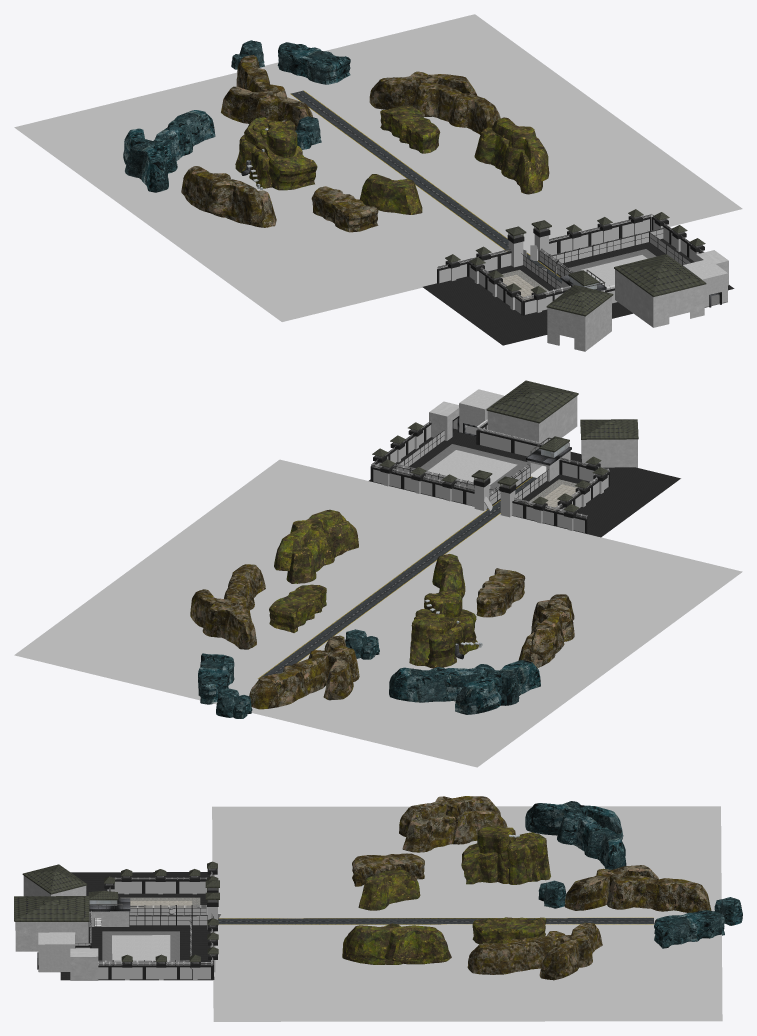
The model's file is Room_19+20.fbx.
The picture shows the model from 3 angles, top to bottom: view 1: azimuth 30°, elevation 25°; view 2: azimuth 150°, elevation 25°; view 3: azimuth 270°, elevation 25°; orthographic projection. The views are drawn at different scales.
Parts seen in each view (by area): view 1: nen, pPlane12, mountain5, mountain3, mountain9, mountain4, mountain7, mountain10, polySurface818, polySurface819, polySurface820, mountain11 (+19 smaller); view 2: nen, mountain9, pPlane12, mountain10, mountain3, mountain4, mountain5, mountain7, polySurface802, polySurface819, polySurface818, mountain1 (+17 smaller); view 3: nen, mountain10, mountain5, mountain3, mountain7, mountain9, mountain4, pPlane12, polySurface802, mountain11, polySurface819, mountain2 (+22 smaller).
Part boxes in pixels (left/top/right/bottom): nen: left=14, top=14, right=742, bottom=321; pPlane12: left=422, top=239, right=734, bottom=345; mountain5: left=369, top=71, right=500, bottom=134; mountain3: left=235, top=117, right=317, bottom=190; mountain9: left=123, top=110, right=215, bottom=192; mountain4: left=474, top=117, right=549, bottom=194; mountain7: left=181, top=166, right=276, bottom=227; mountain10: left=221, top=55, right=312, bottom=130; polySurface818: left=615, top=269, right=704, bottom=327; polySurface819: left=614, top=254, right=706, bottom=296; polySurface820: left=547, top=296, right=611, bottom=351; mountain11: left=277, top=42, right=350, bottom=84; nen: left=14, top=459, right=742, bottom=767; mountain9: left=389, top=660, right=540, bottom=714; pPlane12: left=369, top=428, right=680, bottom=537; mountain10: left=249, top=635, right=359, bottom=709; mountain3: left=409, top=590, right=478, bottom=668; mountain4: left=274, top=509, right=358, bottom=583; mountain5: left=190, top=564, right=265, bottom=649; mountain7: left=518, top=594, right=574, bottom=668; polySurface802: left=420, top=444, right=527, bottom=489; polySurface819: left=486, top=380, right=578, bottom=423; polySurface818: left=487, top=396, right=577, bottom=445; mountain1: left=269, top=584, right=326, bottom=632; nen: left=212, top=806, right=722, bottom=1021; mountain10: left=564, top=865, right=711, bottom=912; mountain5: left=467, top=922, right=602, bottom=980; mountain3: left=461, top=825, right=550, bottom=884; mountain7: left=399, top=796, right=507, bottom=852; mountain9: left=525, top=801, right=626, bottom=869; mountain4: left=342, top=923, right=451, bottom=964; pPlane12: left=60, top=872, right=214, bottom=980; polySurface802: left=102, top=931, right=179, bottom=962; mountain11: left=654, top=910, right=724, bottom=948; polySurface819: left=14, top=896, right=89, bottom=921; mountain2: left=358, top=869, right=420, bottom=910.
Size of the model in its own units: 25262 by 2991 by 36076.
